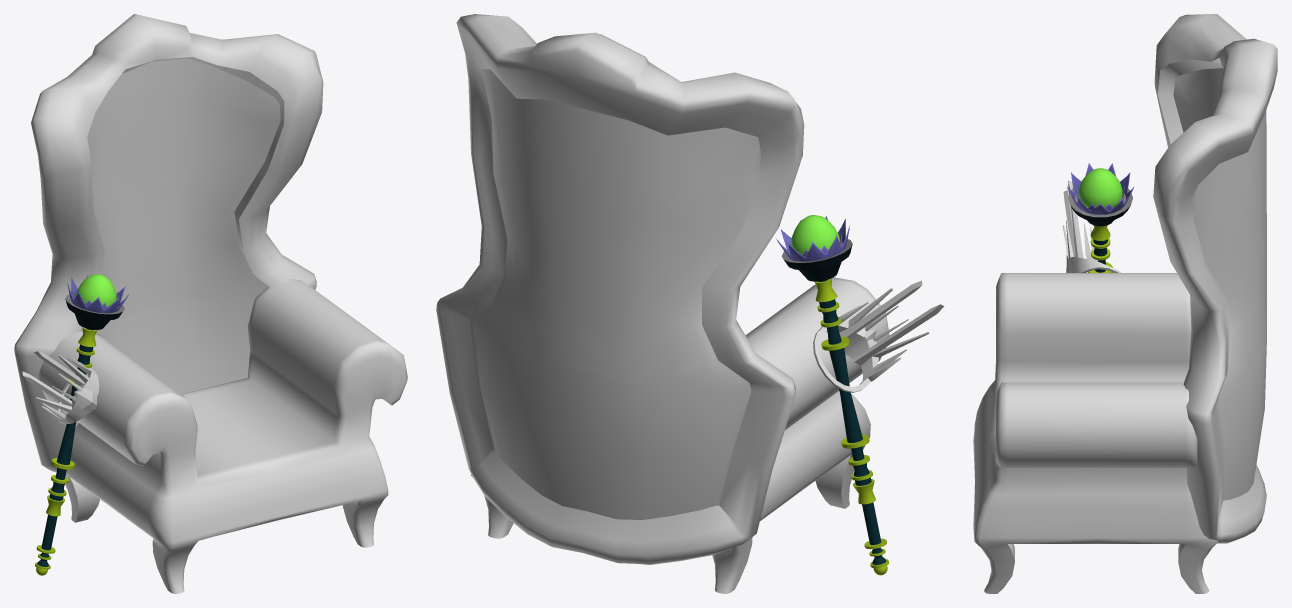
File: TronoConjunto.fbx
The picture shows the model from 3 angles, left to right: view 1: azimuth 30°, elevation 25°; view 2: azimuth 150°, elevation 25°; view 3: azimuth 270°, elevation 25°; orthographic projection. The views are drawn at different scales.
Parts seen in each view (by area): view 1: Espalda, Asiento, Cetro, Corona; view 2: Espalda, Asiento, Cetro, Corona; view 3: Asiento, Espalda, Cetro, Corona.
Boxes of the visible parts, x1=… form: Espalda: x1=14, y1=14, x2=323, y2=472; Asiento: x1=38, y1=279, x2=407, y2=593; Cetro: x1=35, y1=274, x2=128, y2=575; Corona: x1=22, y1=351, x2=99, y2=424; Espalda: x1=436, y1=14, x2=804, y2=564; Asiento: x1=471, y1=277, x2=889, y2=593; Cetro: x1=776, y1=215, x2=888, y2=575; Corona: x1=813, y1=280, x2=944, y2=392; Asiento: x1=973, y1=273, x2=1218, y2=593; Espalda: x1=1153, y1=14, x2=1277, y2=543; Cetro: x1=1067, y1=163, x2=1134, y2=272; Corona: x1=1062, y1=180, x2=1120, y2=272.
Bounding box in the file's own units: 96.26 × 119 × 65.85.
